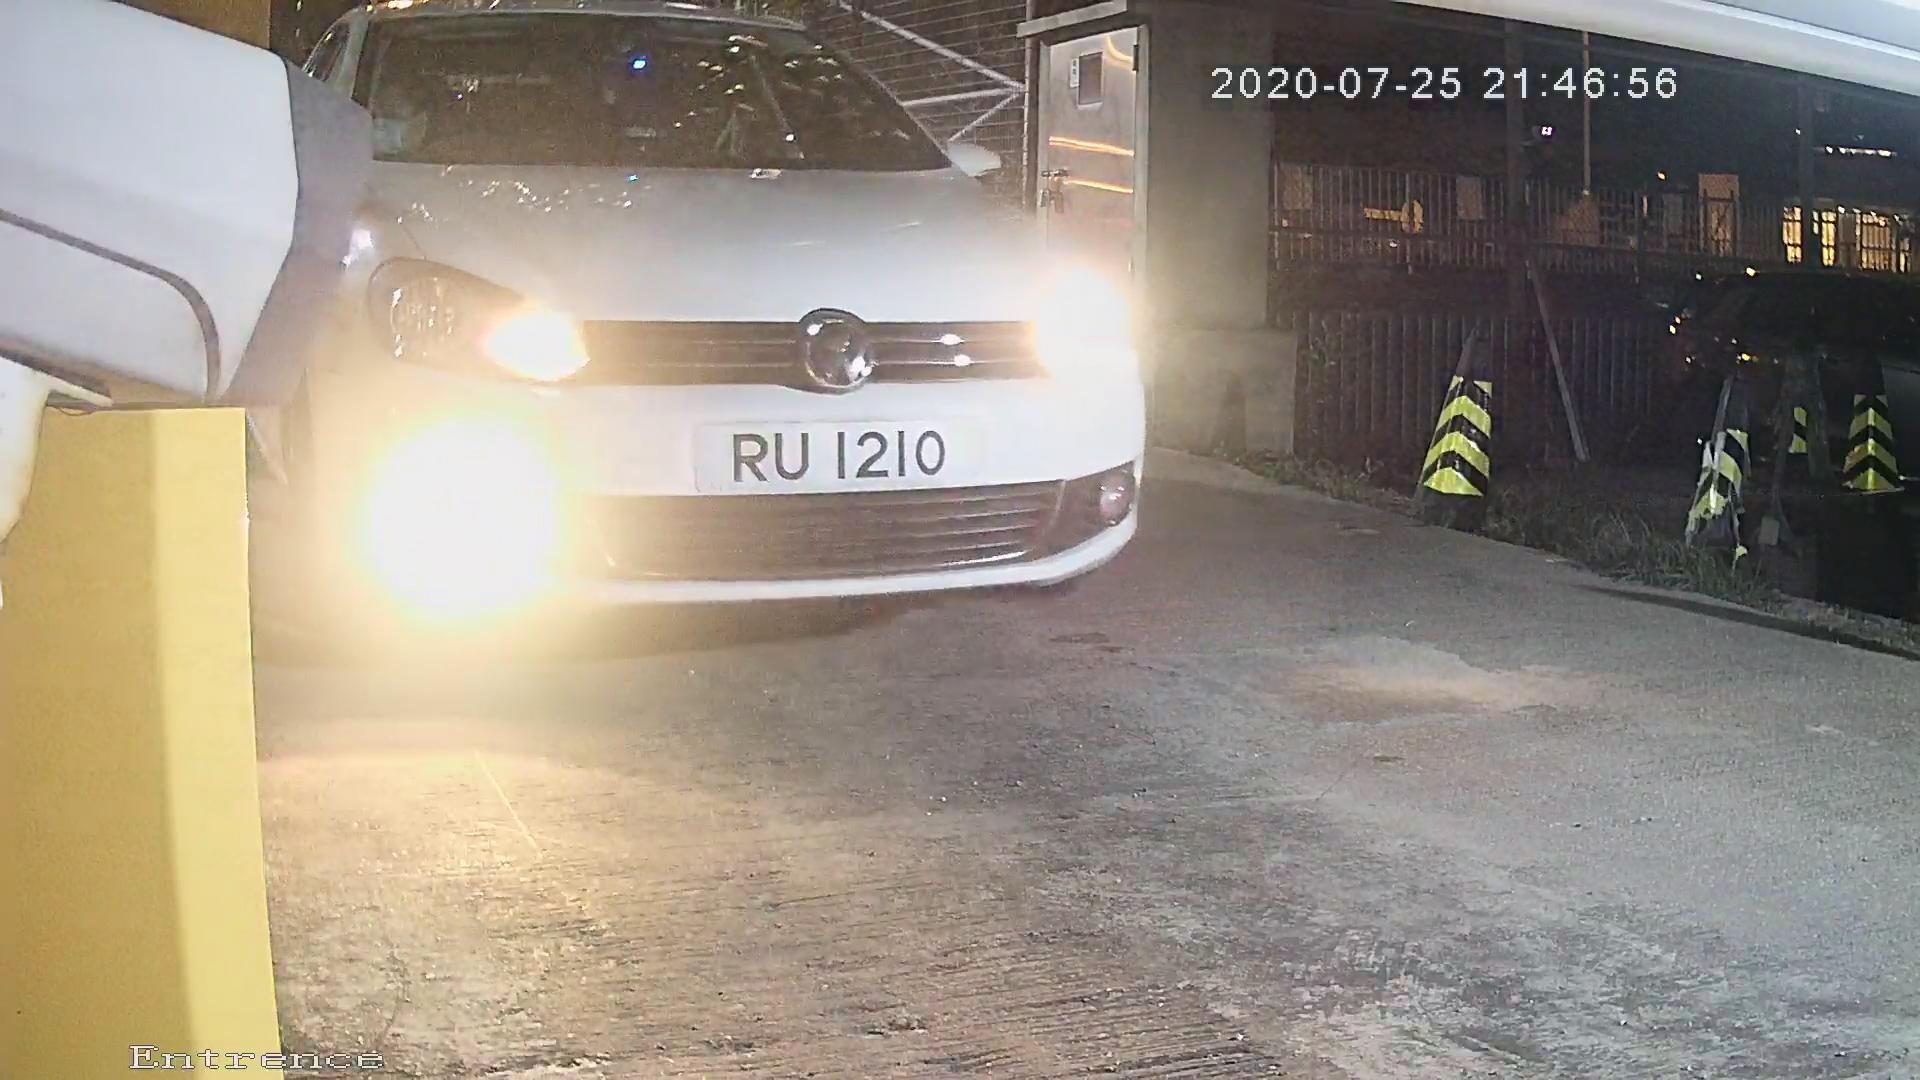License Plate: (669, 396, 1012, 512)
